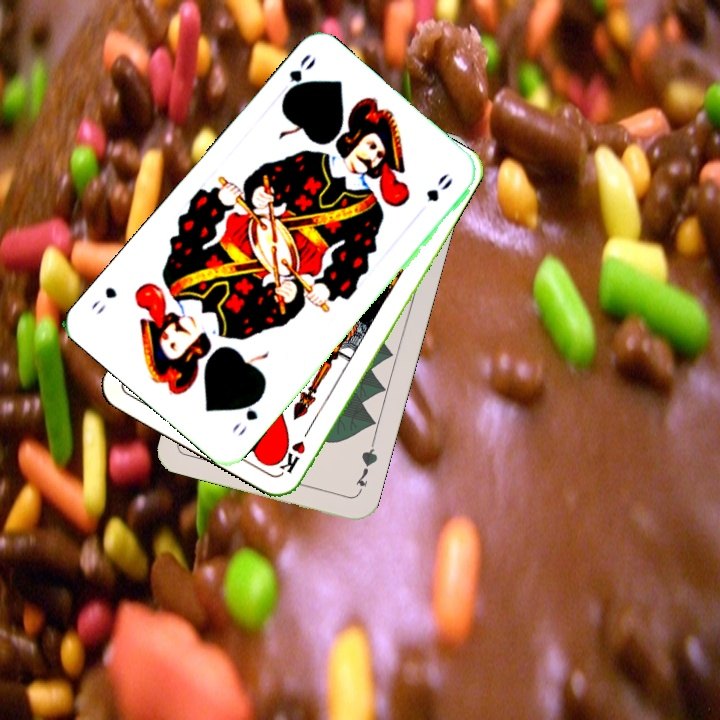G7: (351, 438, 380, 496)
GO: (278, 49, 319, 103), (227, 391, 265, 438)
HK: (275, 421, 315, 476)
